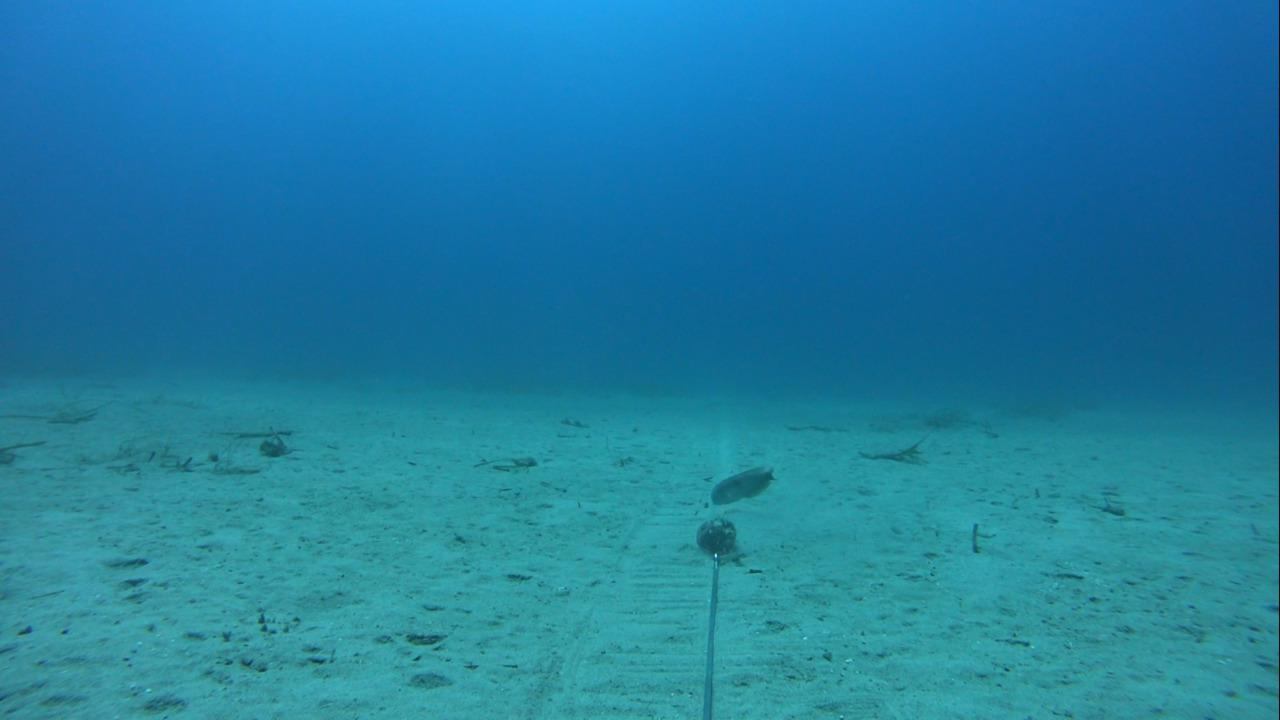raor: (707, 462, 777, 510)
